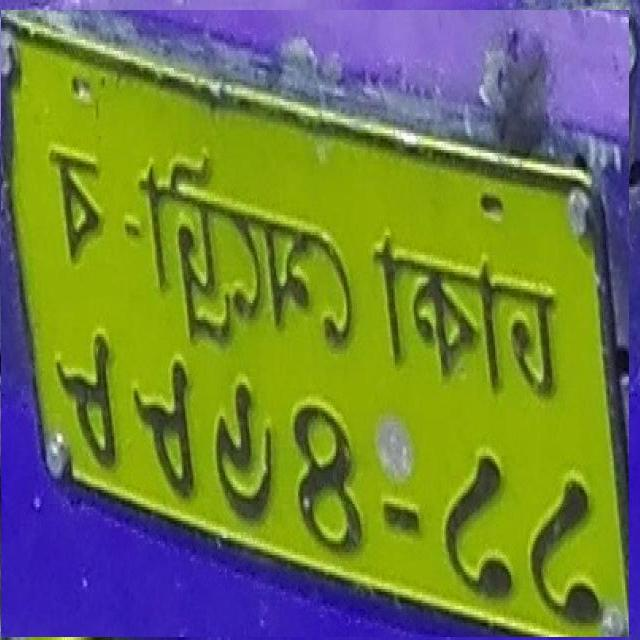numberplate: (1, 10, 629, 637)
